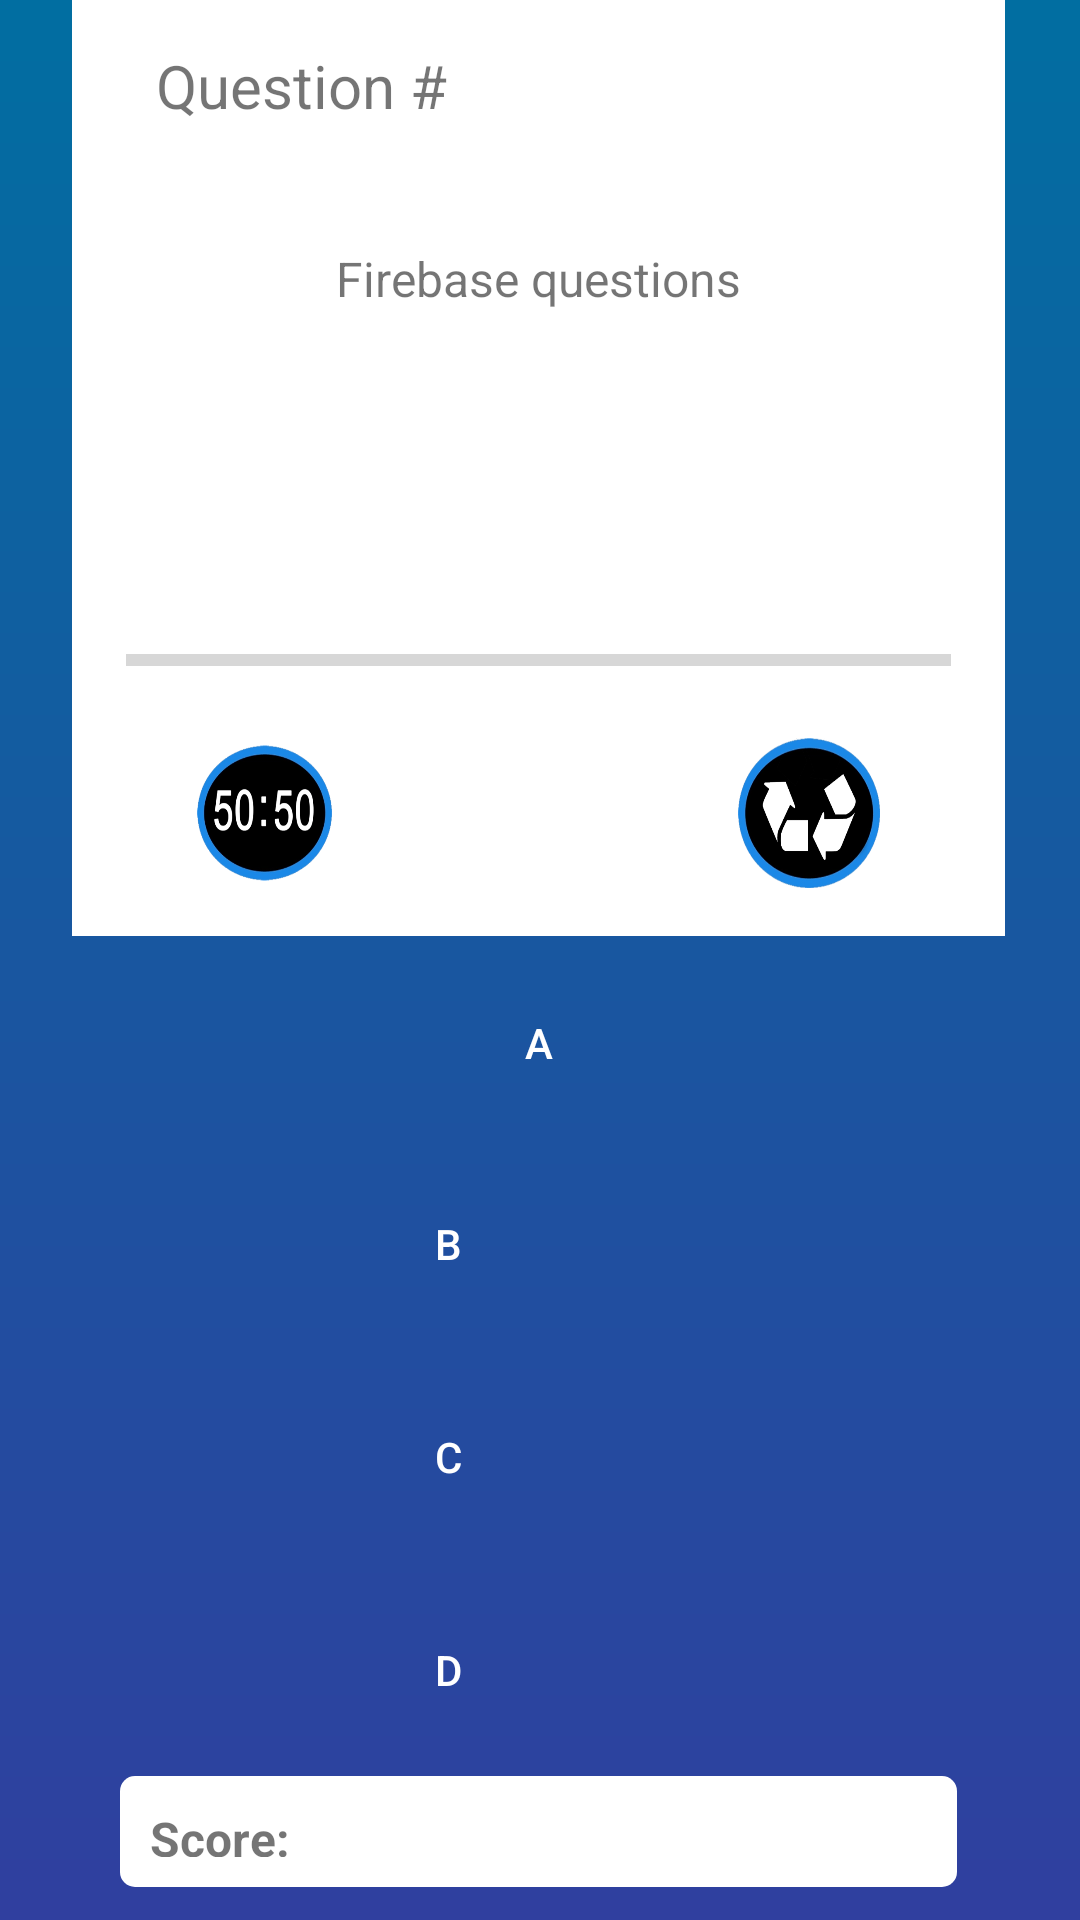

Screen size 1080x1920. Icon name, then its center in pixels as point (x, y):
half: point (264, 813)
skip question: point (809, 813)
